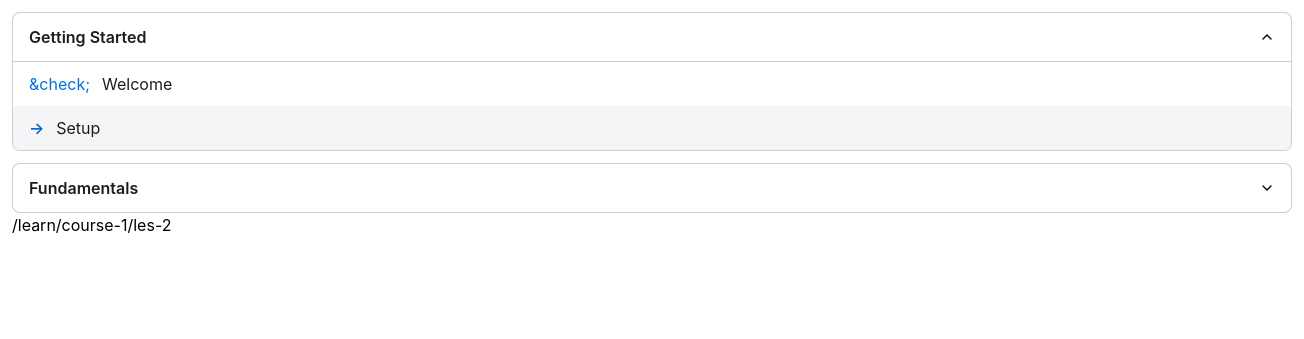
CourseCurriculumSidebar › clicking a collapsed module's header expands it, revealing lessons
The image size is (1304, 339).
Check: the text "Components" is not shown
Click the button "Fundamentals". click: {"x": 84, "y": 188}
box: 13,164 -> 1291,212
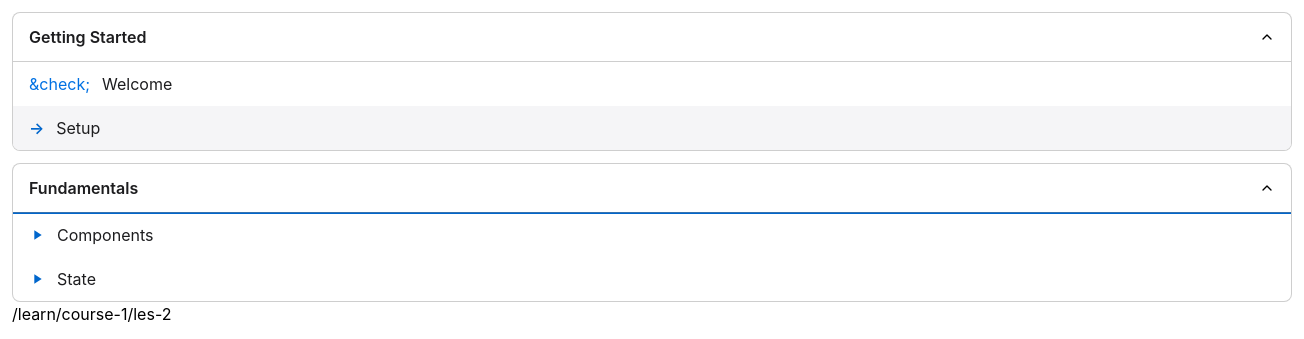
Check: the button "Fundamentals" is expanded, box 13,164 -> 1291,212
Check: the text "Components" is shown, box 57,223 -> 154,247
Check: the text "State" is shown, box 57,267 -> 96,291
